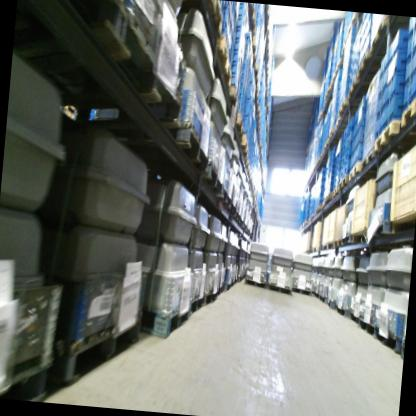pallet: (60, 0, 172, 95), (55, 307, 145, 391), (161, 115, 213, 172), (0, 356, 53, 402), (145, 300, 193, 344), (372, 119, 416, 157), (369, 17, 406, 58), (201, 0, 232, 42), (216, 39, 237, 86), (199, 158, 225, 195), (358, 47, 387, 79), (399, 82, 416, 132), (347, 70, 372, 102), (375, 328, 401, 357), (334, 96, 365, 120), (362, 149, 392, 173), (221, 81, 242, 114), (365, 221, 391, 245), (356, 314, 379, 338), (242, 273, 271, 291), (347, 160, 365, 186), (214, 182, 232, 208), (187, 291, 207, 314), (289, 282, 314, 300), (334, 115, 359, 133), (266, 282, 293, 297), (243, 5, 259, 30), (204, 284, 221, 307), (328, 129, 351, 145), (225, 199, 241, 221), (232, 114, 246, 137), (244, 41, 258, 64), (347, 307, 362, 328), (330, 66, 343, 88), (348, 15, 363, 34), (324, 138, 342, 153), (338, 173, 351, 192), (322, 188, 334, 208), (334, 302, 350, 317), (236, 139, 250, 156), (260, 23, 270, 46), (340, 33, 349, 57), (254, 64, 263, 87), (335, 56, 346, 74), (324, 85, 335, 101), (262, 5, 271, 24), (326, 296, 337, 311), (225, 277, 234, 295), (317, 110, 329, 123), (265, 74, 272, 95), (241, 152, 250, 168), (245, 163, 253, 181), (311, 289, 321, 302), (322, 99, 331, 113), (263, 49, 271, 64), (332, 188, 342, 199), (256, 105, 262, 123), (254, 90, 261, 105), (307, 212, 315, 225), (264, 64, 270, 81), (301, 219, 311, 229), (262, 92, 270, 104), (400, 342, 405, 361), (315, 204, 324, 214), (318, 296, 328, 305), (255, 118, 261, 131), (264, 104, 271, 114), (321, 202, 325, 211)
small_load_carrier: (386, 67, 412, 106), (383, 92, 407, 132), (390, 46, 414, 81), (391, 28, 412, 59), (401, 69, 416, 110), (403, 41, 416, 85), (358, 17, 373, 52), (373, 108, 387, 144), (348, 144, 365, 172), (358, 34, 372, 68), (352, 112, 367, 141), (406, 19, 416, 62), (375, 86, 387, 121), (354, 98, 367, 129), (376, 68, 390, 96), (351, 124, 365, 152), (222, 2, 234, 29), (228, 60, 243, 81), (380, 49, 391, 76), (360, 13, 372, 37), (242, 115, 251, 142), (245, 101, 254, 128), (229, 72, 240, 94), (232, 48, 245, 66), (227, 24, 236, 50), (236, 31, 247, 52), (221, 24, 230, 49), (239, 4, 250, 23), (236, 108, 247, 127), (407, 18, 416, 41), (248, 85, 256, 109), (250, 67, 258, 90), (343, 145, 353, 163), (236, 18, 246, 36), (343, 159, 352, 178), (341, 137, 349, 156), (232, 3, 238, 27), (346, 132, 355, 146), (342, 125, 349, 143), (348, 115, 354, 135), (339, 164, 345, 182), (340, 151, 346, 169)
